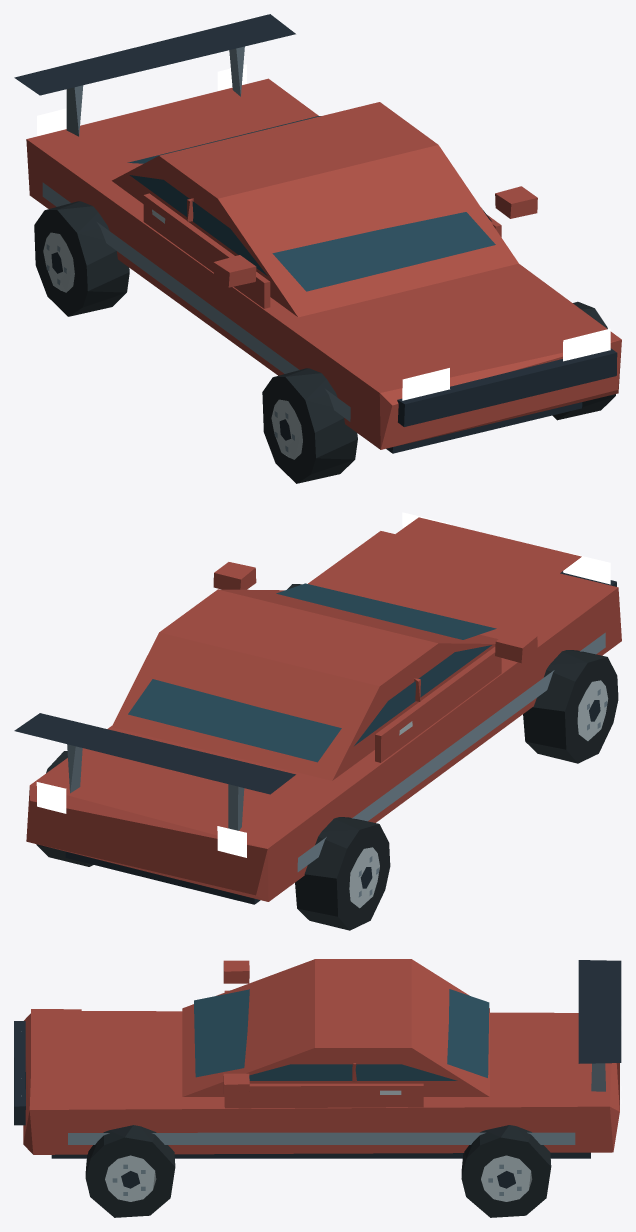
Rendered from road-sports.lod2.glb.
3 renders of one model, top to bottom at view 1: azimuth 30°, elevation 25°; view 2: azimuth 150°, elevation 25°; view 3: azimuth 270°, elevation 25°, orthographic. The views are drawn at different scales.
Visible parts, largest first — view 1: road-sports__body, road-sports__wheel_steer_0_l, road-sports__wheel_steer_1_l, road-sports__door_-1, road-sports__wheel_steer_0_r; view 2: road-sports__body, road-sports__wheel_steer_0_l, road-sports__wheel_steer_1_l, road-sports__door_-1; view 3: road-sports__body, road-sports__door_1, road-sports__wheel_steer_0_r, road-sports__wheel_steer_1_r.
Boxes of the visible parts, <box> form: road-sports__body: <box>14,14,621,453</box>; road-sports__wheel_steer_0_l: <box>262,368,357,483</box>; road-sports__wheel_steer_1_l: <box>34,201,129,316</box>; road-sports__door_-1: <box>129,175,270,308</box>; road-sports__wheel_steer_0_r: <box>552,301,615,420</box>; road-sports__body: <box>14,512,621,904</box>; road-sports__wheel_steer_0_l: <box>523,650,618,763</box>; road-sports__wheel_steer_1_l: <box>295,817,390,930</box>; road-sports__door_-1: <box>354,645,501,762</box>; road-sports__body: <box>14,959,621,1158</box>; road-sports__door_1: <box>224,1063,457,1108</box>; road-sports__wheel_steer_0_r: <box>85,1125,175,1217</box>; road-sports__wheel_steer_1_r: <box>461,1125,551,1217</box>.
Size of the model in its own units: 2.24 by 1.29 by 4.59.
